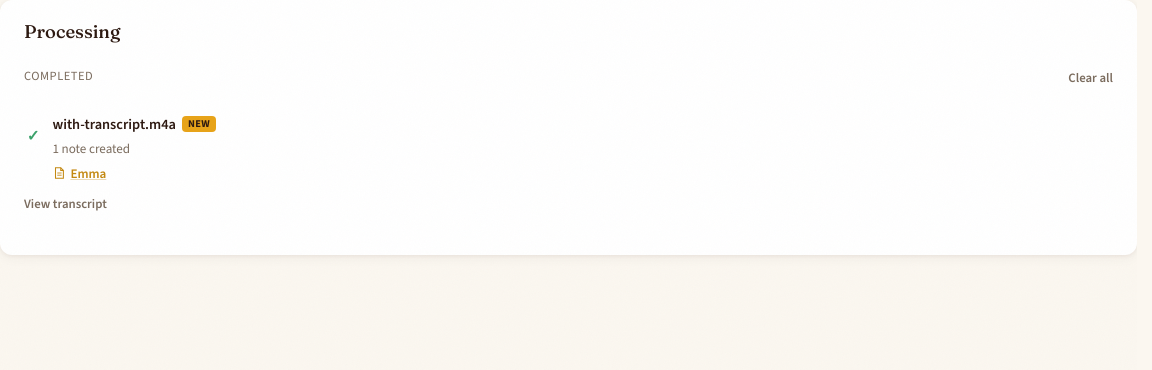
JobStatus › shows View transcript button when job has transcript
# Click to expand
Click the button "View transcript": (65, 204) [24, 182, 107, 226]
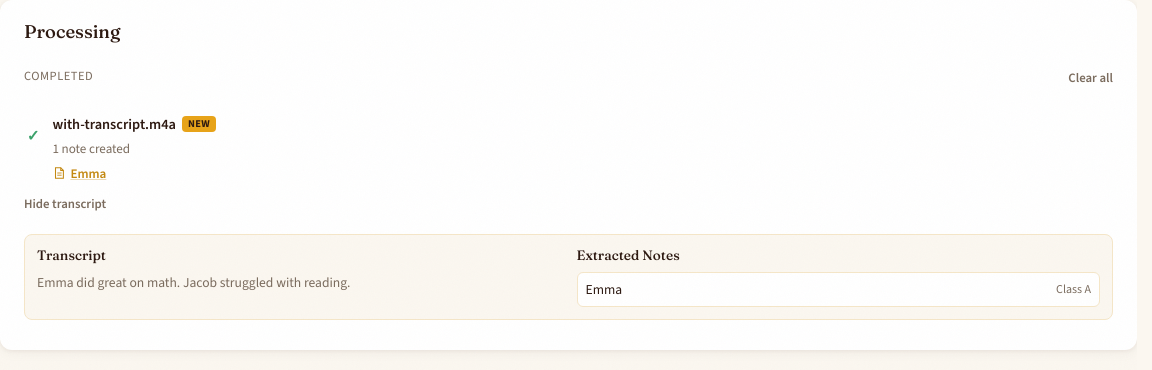
Now the text "Emma did great on math. Jacob struggled with reading." is shown, box [37, 273, 350, 291]
Now the button "Hide transcript" is shown, box [24, 182, 106, 226]
